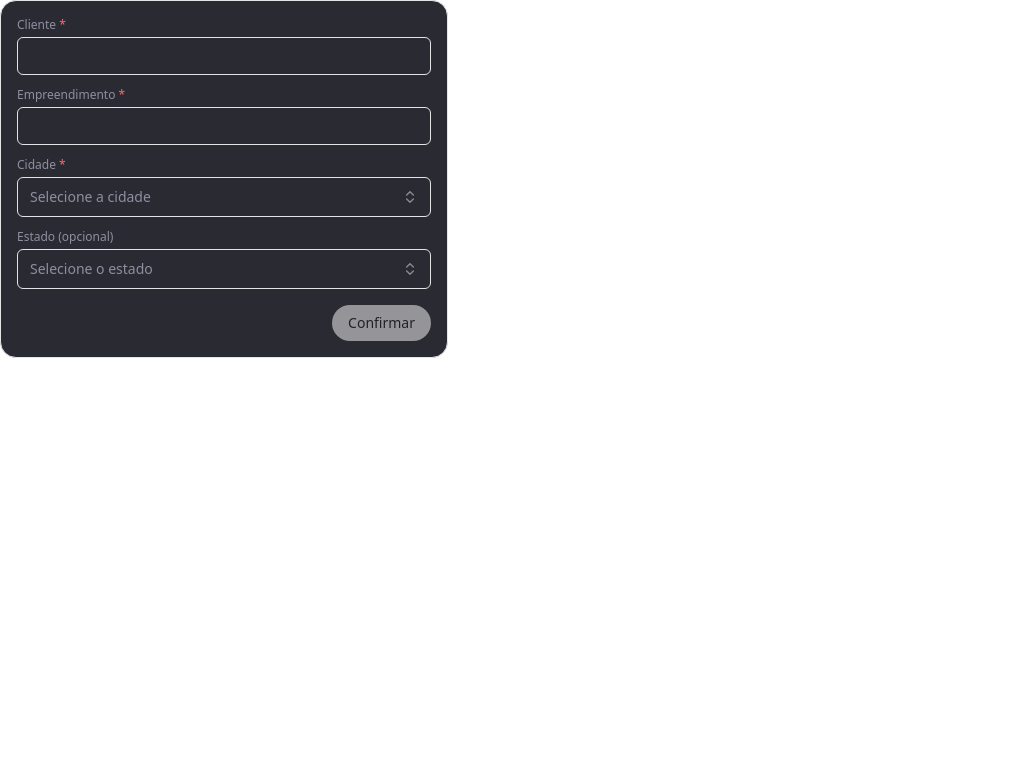
Test: <MetadataForm /> › clearing city via X unlocks estado combobox for editing
Click the dropdown labelled "Selecione a cidade": coordinates (90, 196) [17,177,431,217]
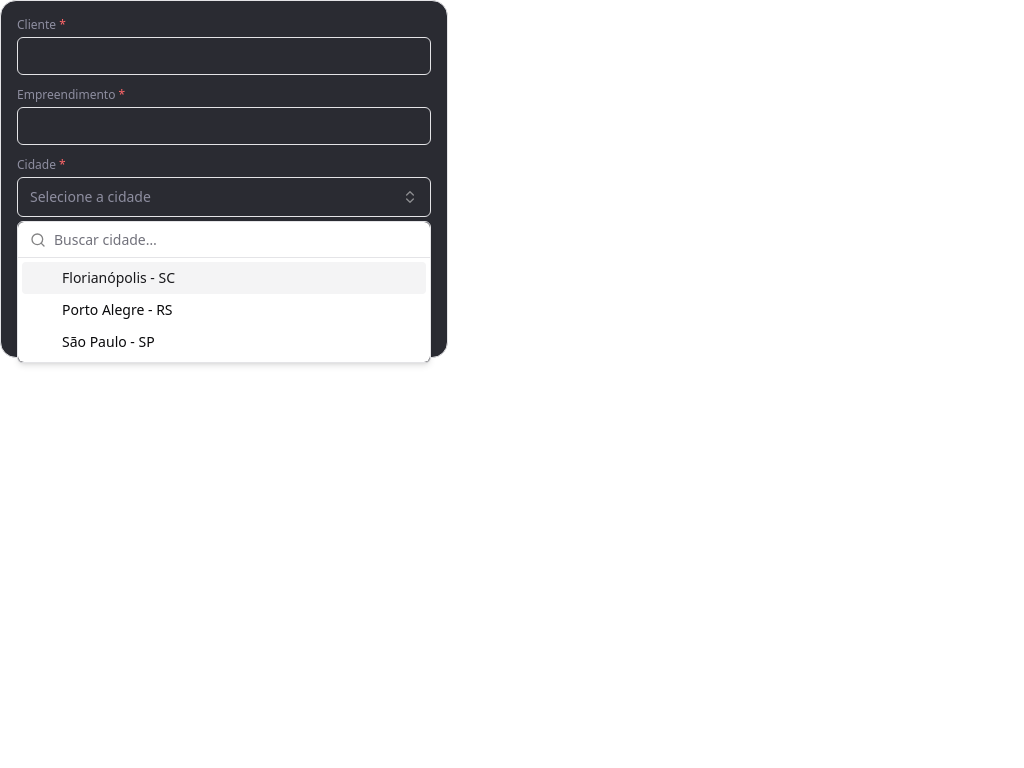
Click the option "Florianópolis - SC": coordinates (119, 278) [22,262,426,294]
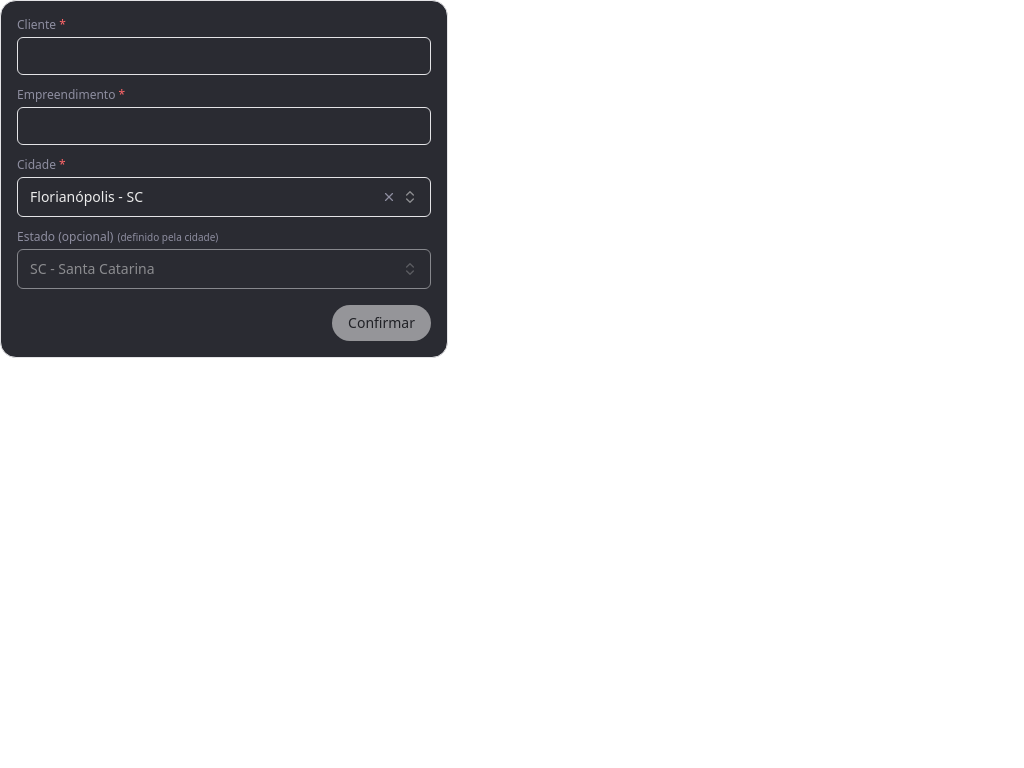
expect the dropdown named "estado" is disabled: met, box [17,249,431,289]
Click the button named "limpar seleção": coordinates (389, 197) [382,190,396,204]
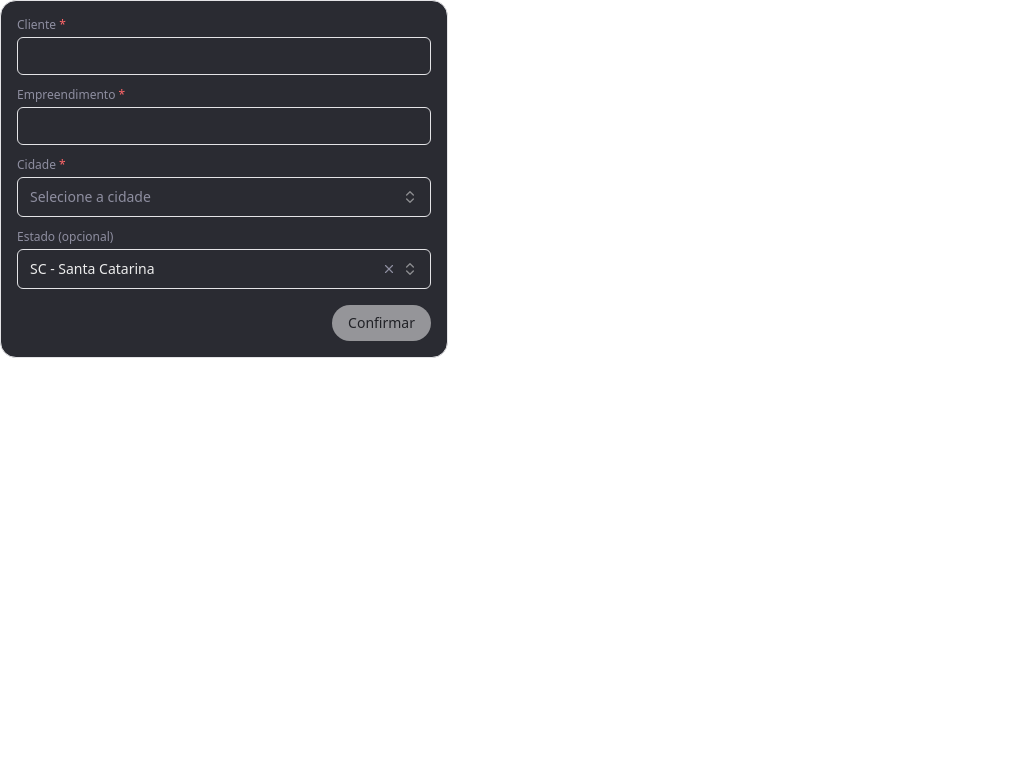
expect the dropdown named "estado" is enabled: met, box [17,249,431,289]
